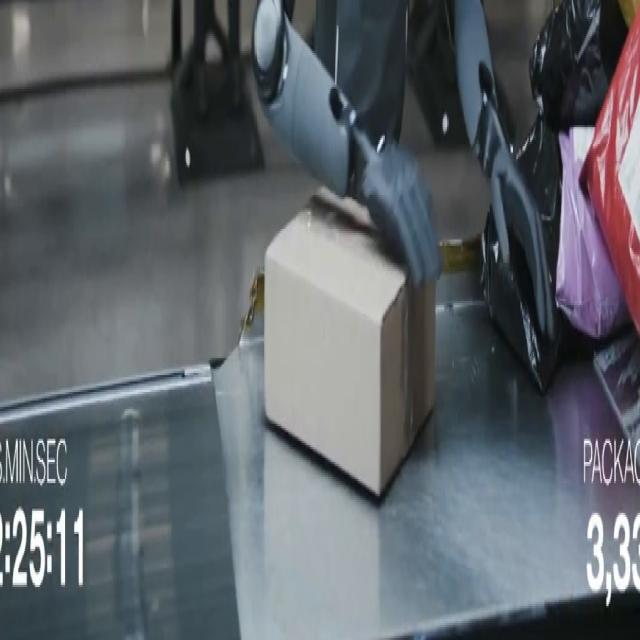package: (264, 191, 435, 498), (581, 15, 639, 330), (556, 128, 629, 339), (483, 208, 563, 392), (530, 0, 608, 131), (594, 331, 639, 449), (599, 0, 628, 82), (619, 0, 639, 27)
